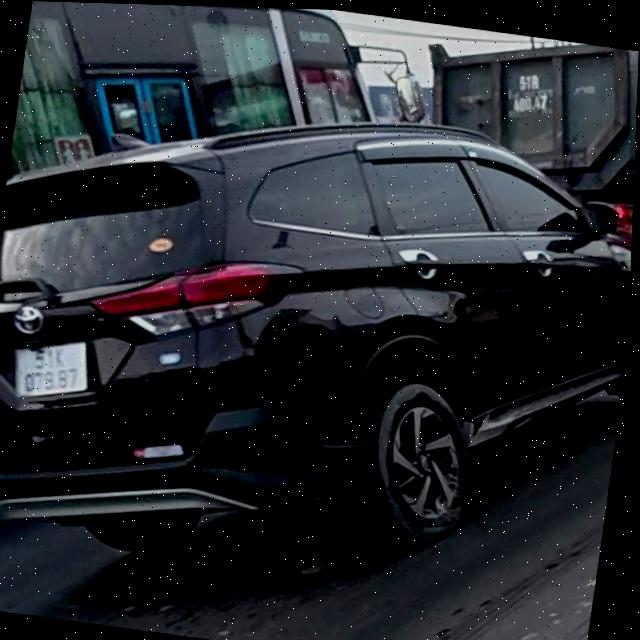car: (0, 72, 637, 595)
plate: (5, 328, 97, 405)
